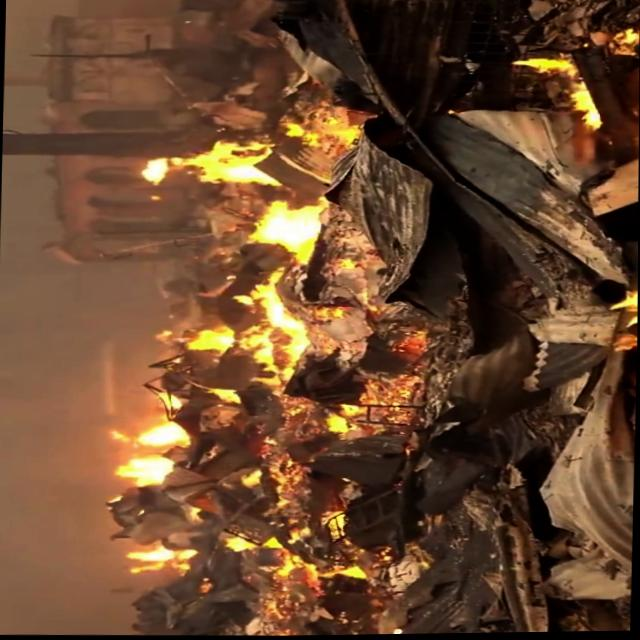fire: (166, 123, 341, 272)
